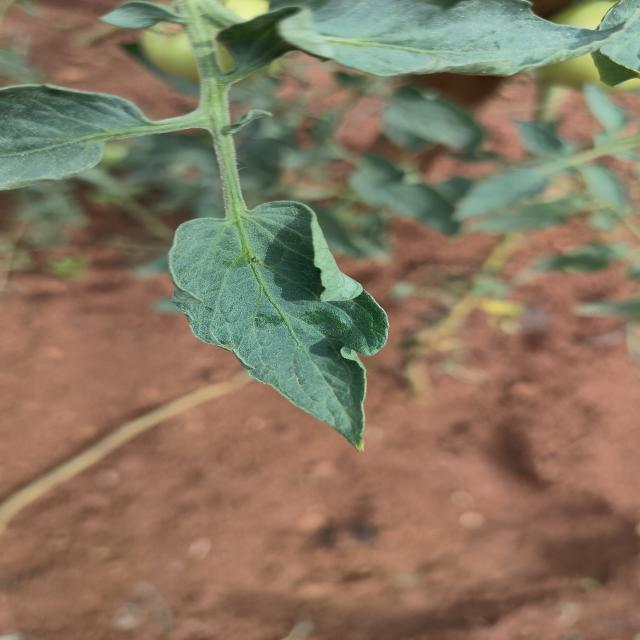tomato_healthy: (162, 198, 394, 452), (278, 0, 621, 77)
